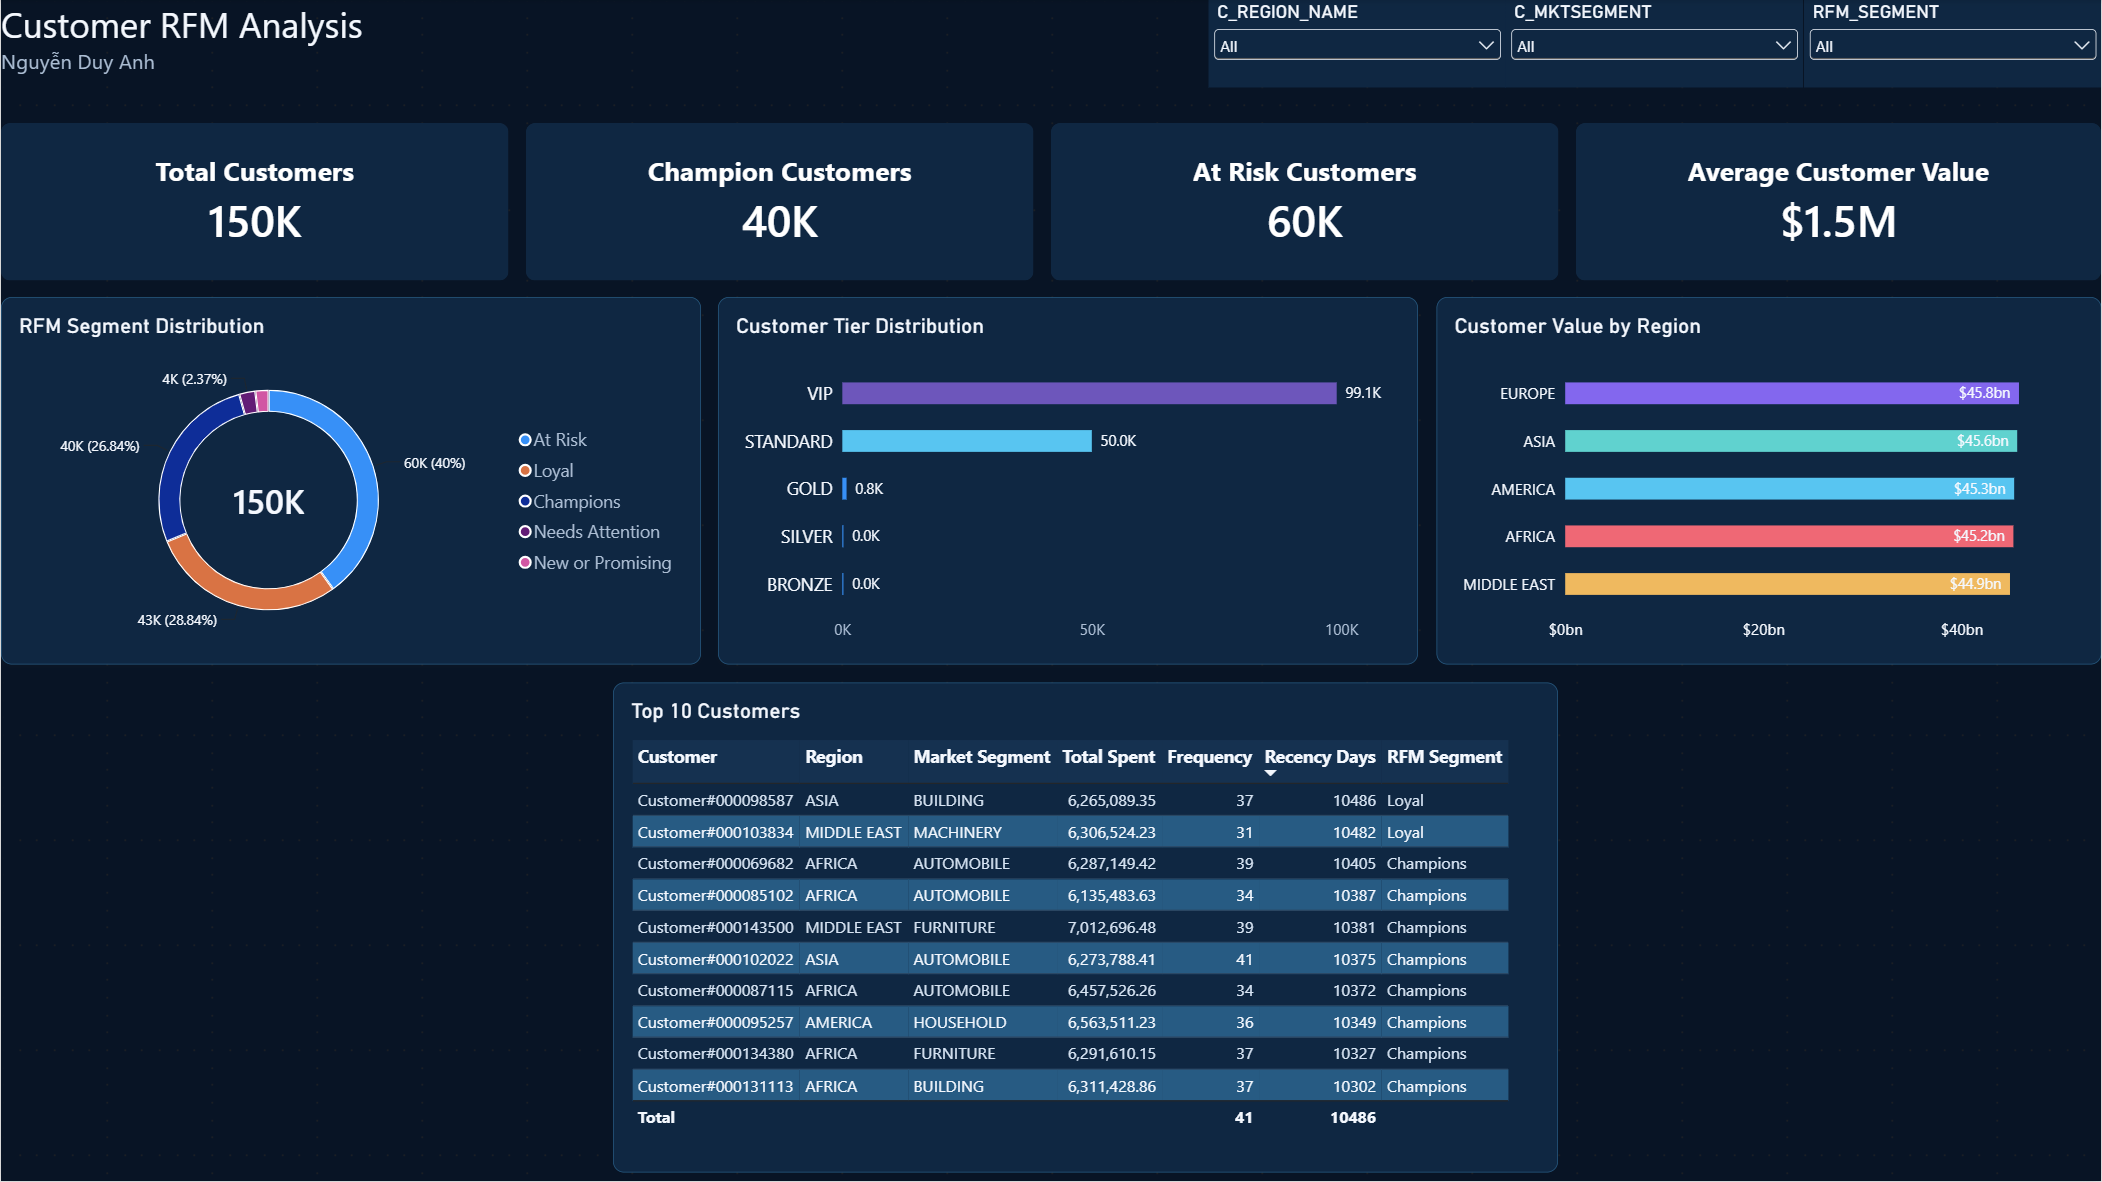

This screenshot's page, from the dashboard's own definition file:
{"tool":"powerbi","page":{"name":"Customer RFM Analysis","canvas":[1920,1080],"ordinal":1},"visuals":[{"type":"textbox","box":[0,0,1920,80],"z":0},{"type":"slicer","fields":{"Values":["CUSTOMER_LTV.C_REGION_NAME"]},"box":[1104,0,272,80],"z":1000},{"type":"slicer","fields":{"Values":["CUSTOMER_RFM_SCORES.RFM_SEGMENT"]},"box":[1648,0,272,80],"z":2000},{"type":"slicer","fields":{"Values":["CUSTOMER_LTV.C_MKTSEGMENT"]},"box":[1376,0,272,80],"z":3000},{"type":"cardVisual","fields":{"Data":["00_MEASURES.Total Customers"]},"box":[0,112,464,144],"z":4000},{"type":"cardVisual","fields":{"Data":["00_MEASURES.Average Customer Value"]},"box":[1440,112,480,144],"z":5000},{"type":"cardVisual","fields":{"Data":["00_MEASURES.At Risk Customers"]},"box":[960,112,464,144],"z":6000},{"type":"cardVisual","fields":{"Data":["00_MEASURES.Champion Customers"]},"box":[480,112,464,144],"z":7000},{"type":"donutChart","title":"RFM Segment Distribution","fields":{"Category":["CUSTOMER_RFM_SCORES.RFM Segment Label"],"Y":["00_MEASURES.Total Customers"]},"box":[0,272,640,336],"z":8000},{"type":"clusteredBarChart","title":"Customer Tier Distribution","fields":{"Category":["CUSTOMER_LTV.CUSTOMER_TIER"],"Y":["00_MEASURES.Total Customers"]},"box":[656,272,640,336],"z":9000},{"type":"clusteredBarChart","title":"Customer Value by Region","fields":{"Category":["CUSTOMER_LTV.C_REGION_NAME"],"Y":["00_MEASURES.Customer Revenue"]},"box":[1312,272,608,336],"z":9001},{"type":"tableEx","title":"Top 10 Customers","fields":{"Values":["CUSTOMER_LTV.C_NAME","CUSTOMER_LTV.C_REGION_NAME","CUSTOMER_LTV.C_MKTSEGMENT","CUSTOMER_LTV.TOTAL_SPENT","Max(CUSTOMER_RFM_SCORES.FREQUENCY)","Max(CUSTOMER_RFM_SCORES.RECENCY_DAYS)","CUSTOMER_RFM_SCORES.RFM Segment Label"]},"box":[560,624,864,448],"z":9002}]}

Visuals, with their boxes in screenshot pixels (x1, y1, x2, y2), scaled from the page's 1920x1080 canvas onto the 2102x1182 screenshot:
textbox: box(0, 0, 2101, 88)
slicer - CUSTOMER_LTV.C_REGION_NAME: box(1209, 0, 1506, 88)
slicer - CUSTOMER_RFM_SCORES.RFM_SEGMENT: box(1804, 0, 2101, 88)
slicer - CUSTOMER_LTV.C_MKTSEGMENT: box(1506, 0, 1804, 88)
cardVisual - 00_MEASURES.Total Customers: box(0, 123, 508, 280)
cardVisual - 00_MEASURES.Average Customer Value: box(1576, 123, 2101, 280)
cardVisual - 00_MEASURES.At Risk Customers: box(1051, 123, 1559, 280)
cardVisual - 00_MEASURES.Champion Customers: box(526, 123, 1033, 280)
"RFM Segment Distribution" donutChart: box(0, 298, 701, 665)
"Customer Tier Distribution" clusteredBarChart: box(718, 298, 1419, 665)
"Customer Value by Region" clusteredBarChart: box(1436, 298, 2101, 665)
"Top 10 Customers" tableEx: box(613, 683, 1559, 1173)
